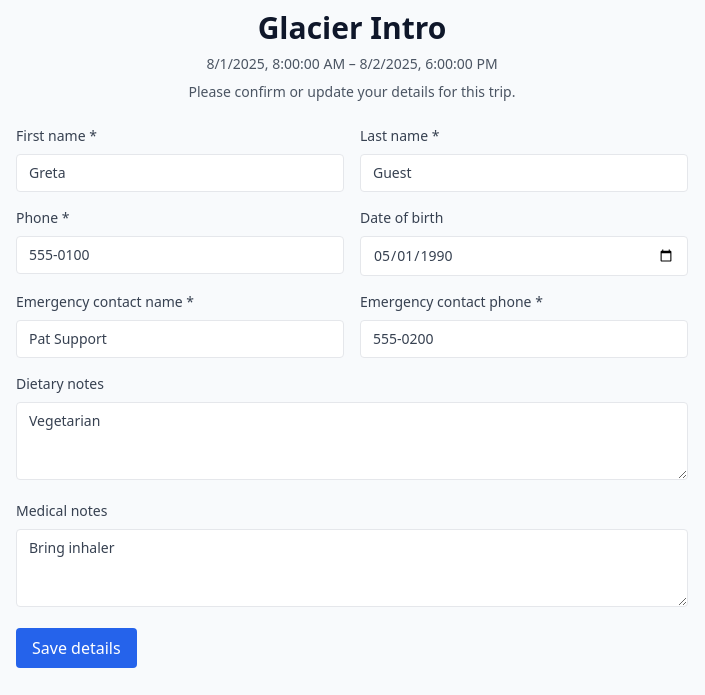
Test: GuestTokenPage › loads guest profile and allows saving updates
Expected: the field showing "Greta" is shown, [16,154,344,192]
Replace the text in the field labelled "Phone *" with "555-0300": coordinates (180, 255) [16,236,344,274]
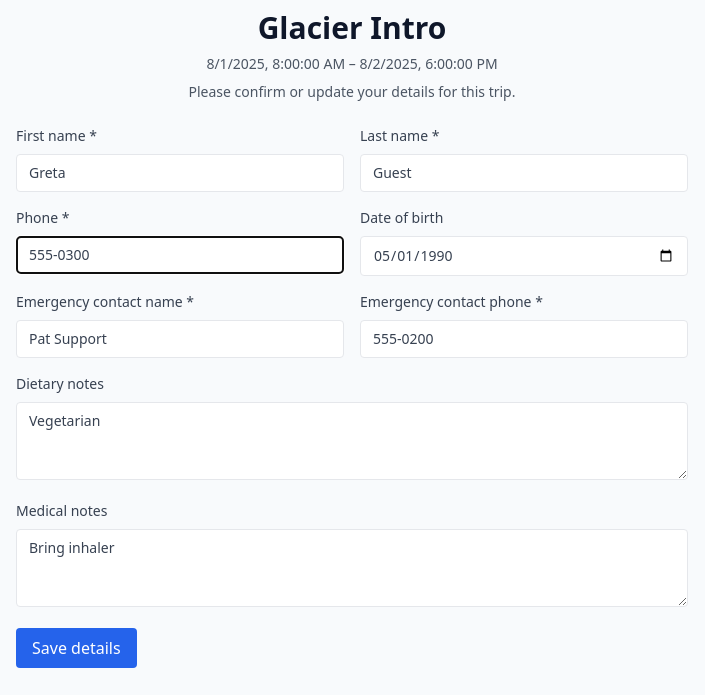
Click the button "Save details": coordinates (76, 648) [16,628,137,668]
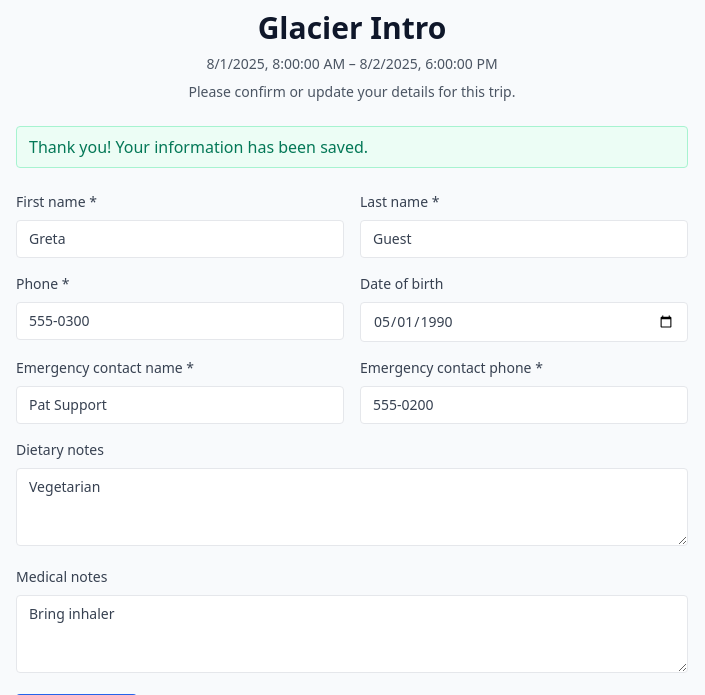
Expected: the text "Thank you! Your information has been saved." is shown, [16,126,688,168]
